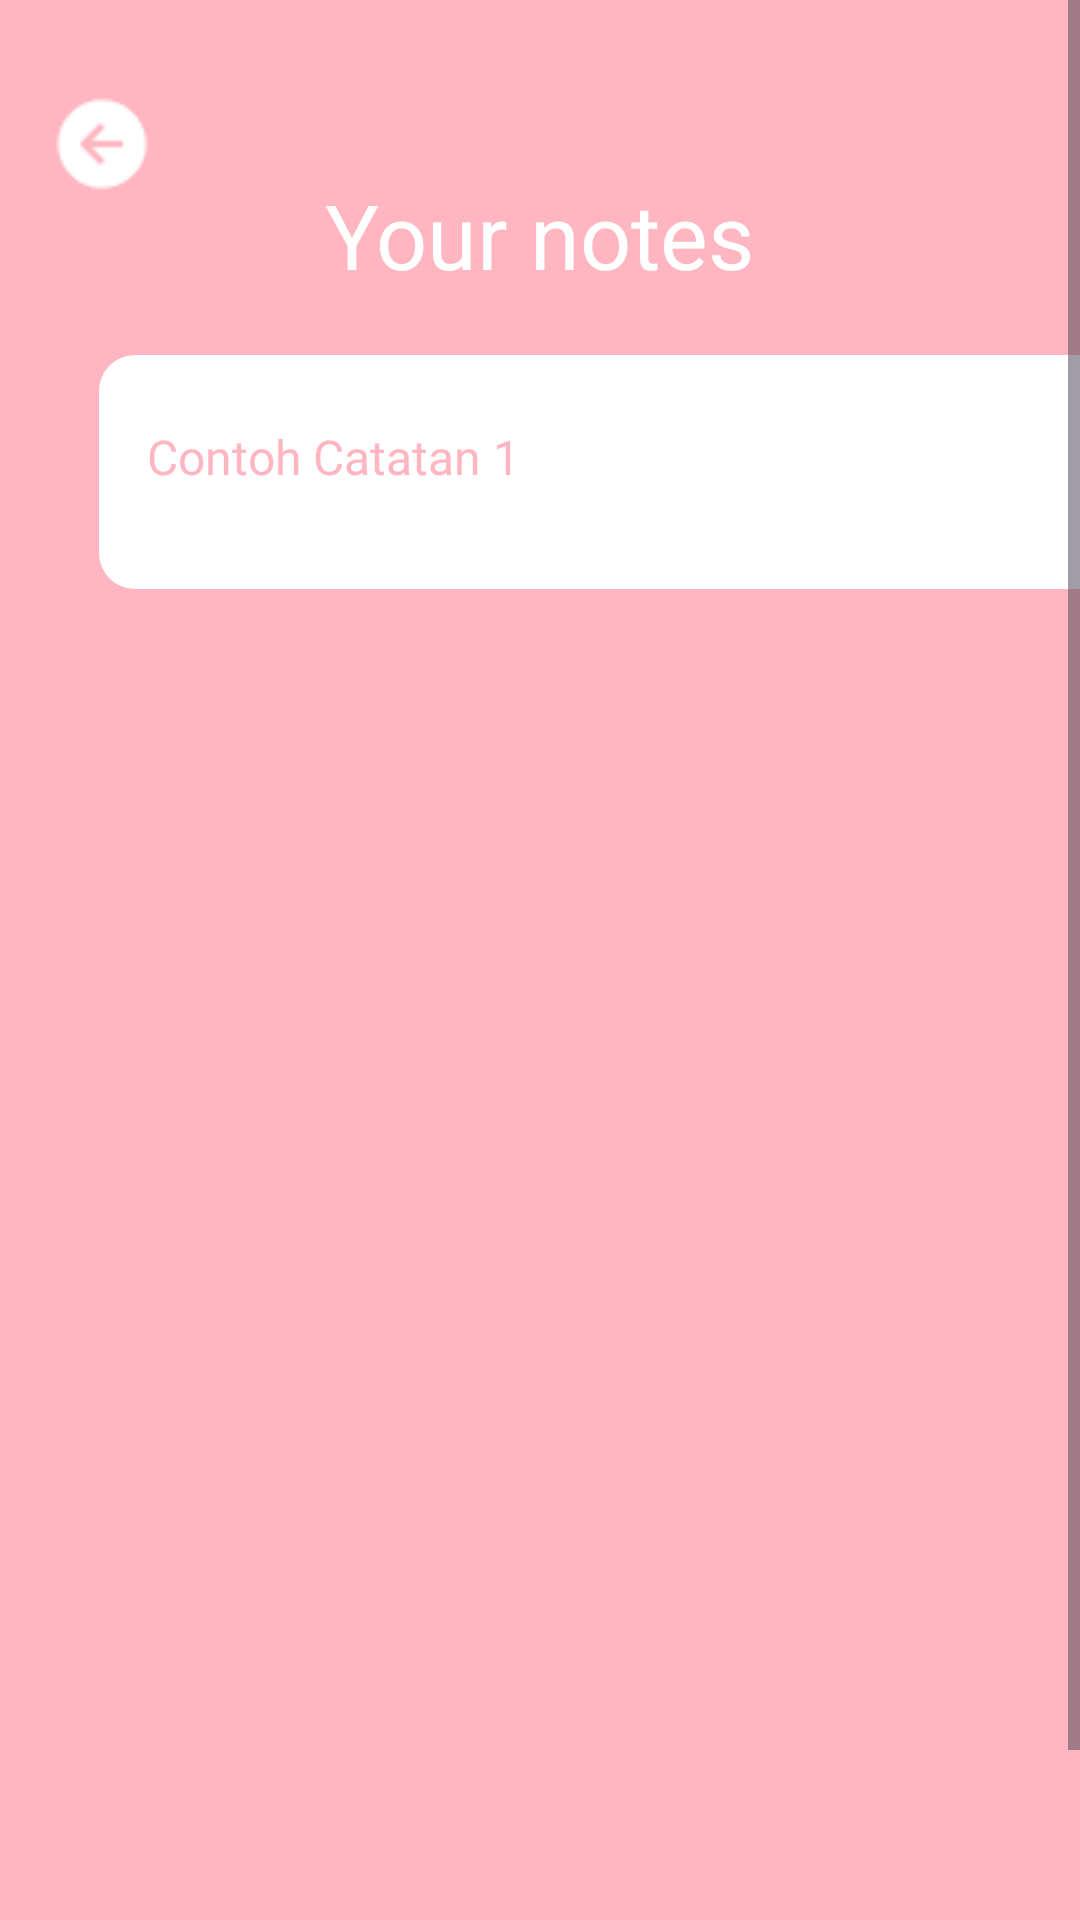

Where to tap for icons on this 1080 x 1920 app screen, as (x,y):
back: (102,144)
